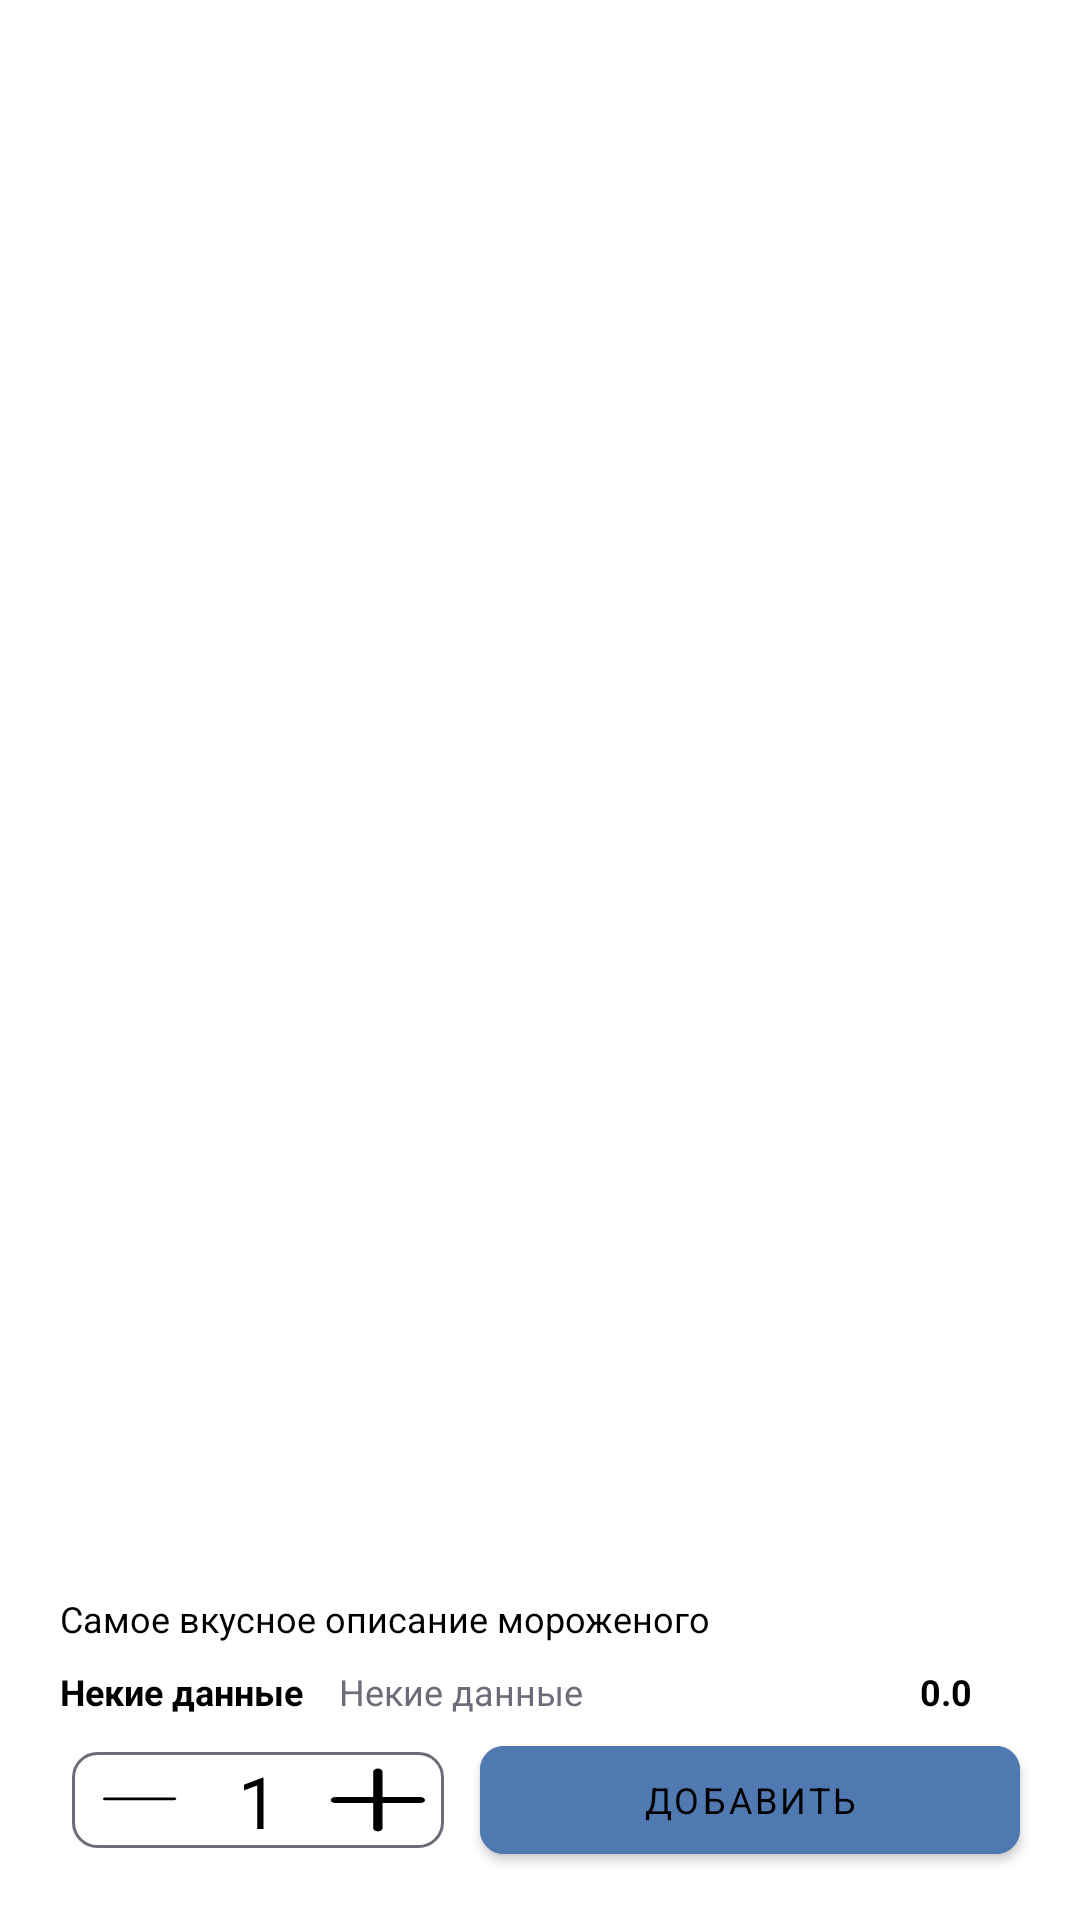

Icon bounding boxes for this 1080 x 1920 phone screenshot, format [x1,y1,x2,y2]:
plus: [330,1768,425,1832]
